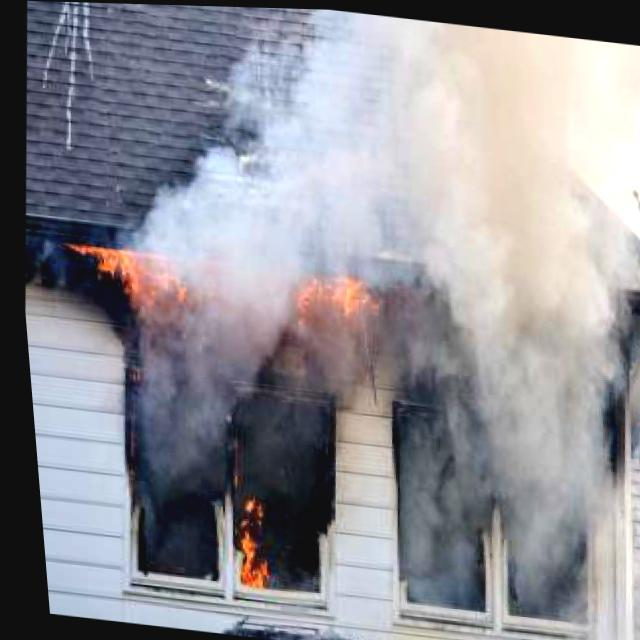Fire: (67, 222, 195, 315), (269, 256, 370, 332), (213, 484, 267, 596)
Smoke: (310, 9, 640, 640), (140, 3, 379, 262), (113, 308, 363, 514)
